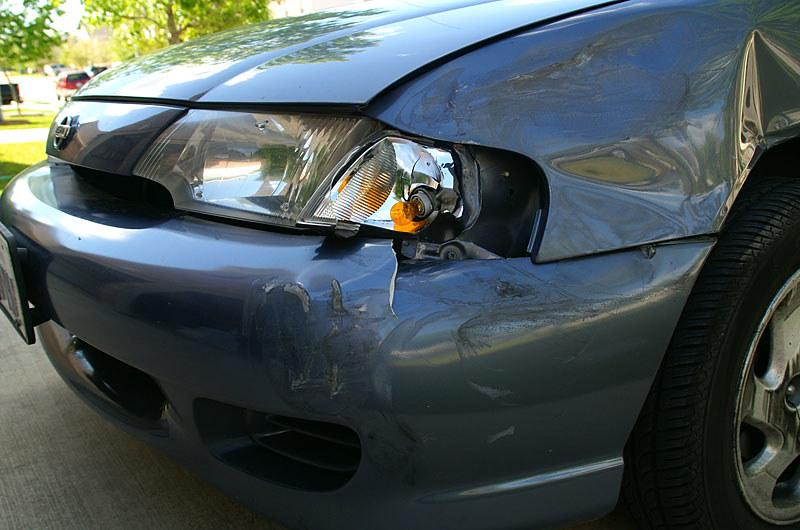Headlight-Damage: (261, 111, 543, 268)
fender-dent: (419, 48, 799, 268)
front-bumper-dent: (149, 252, 704, 518)
